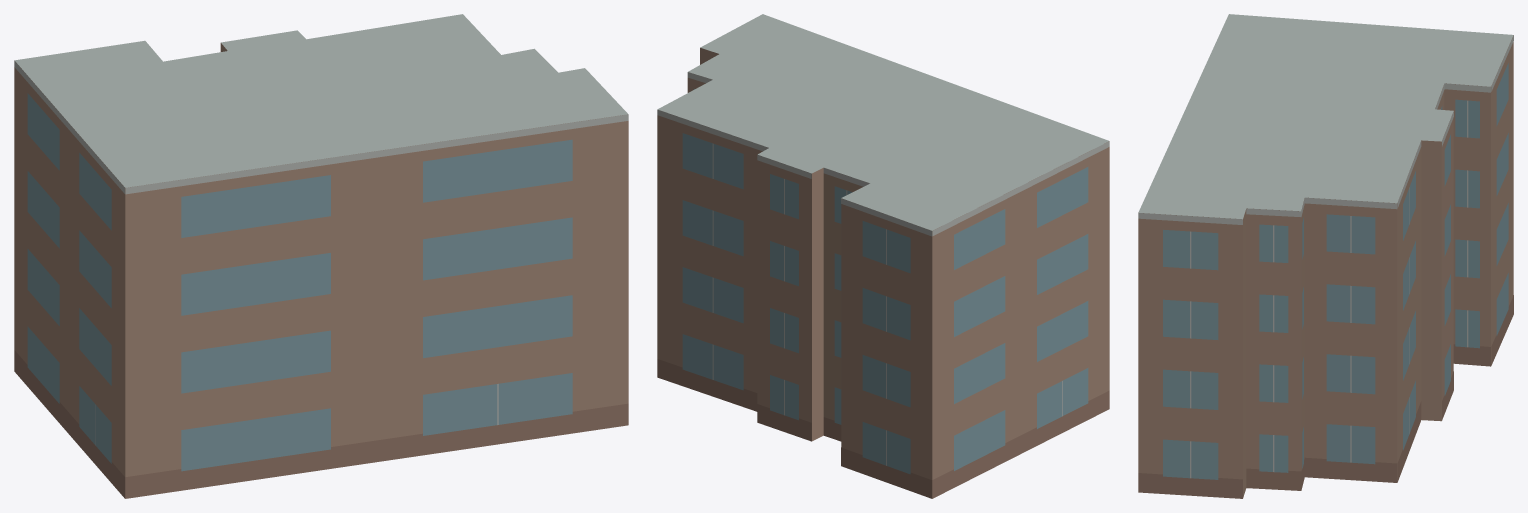
The model's file is survey-upis-32828409.glb.
3 renders of one model, left to right at view 1: azimuth 30°, elevation 25°; view 2: azimuth 150°, elevation 25°; view 3: azimuth 270°, elevation 25°, orthographic. The views are drawn at different scales.
Visible parts, largest first — view 1: survey-upis-32828409.tmp; view 2: survey-upis-32828409.tmp; view 3: survey-upis-32828409.tmp.
Boxes of the visible parts, x1,y1,x2,y2 form: survey-upis-32828409.tmp: (14,14,628,498); survey-upis-32828409.tmp: (657,14,1109,498); survey-upis-32828409.tmp: (1138,14,1513,498).
Size of the model in its own units: 18.1 by 11.5 by 14.
